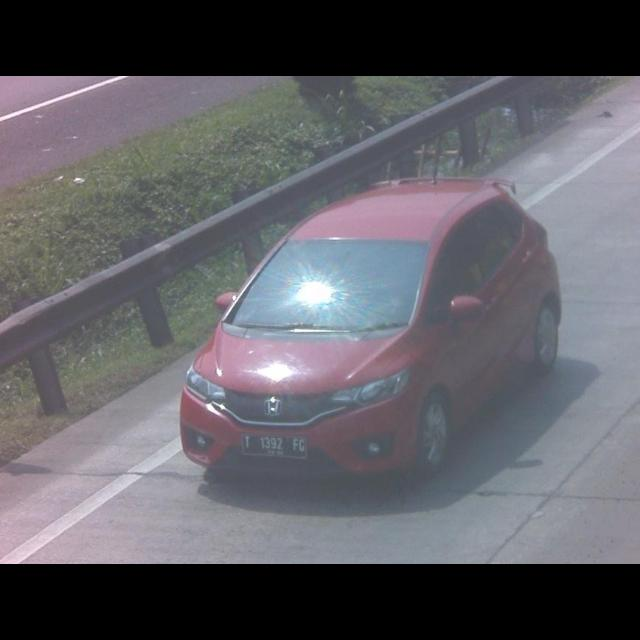plate: (239, 431, 308, 458)
